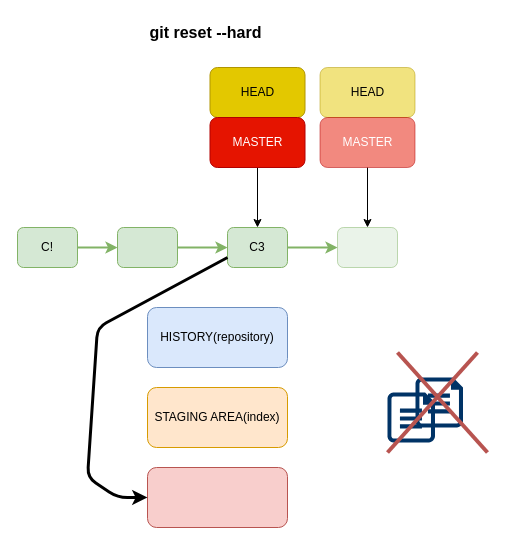
Image size: 508x545. Some labels were removed from this diagram. Each missing label, with the centre of its shape:
"C2" goes at point 147,247.
"C4" goes at point 367,247.
"WORKING DIRECTORY" goes at point 217,497.
